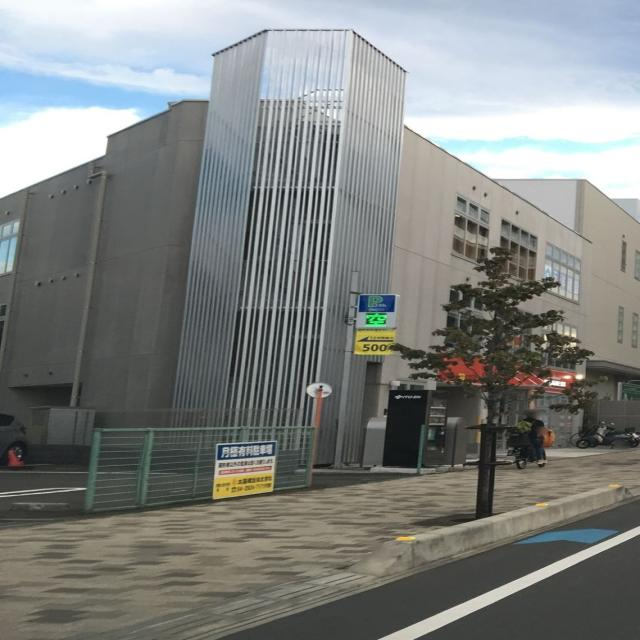dogwood: (388, 246, 595, 518)
